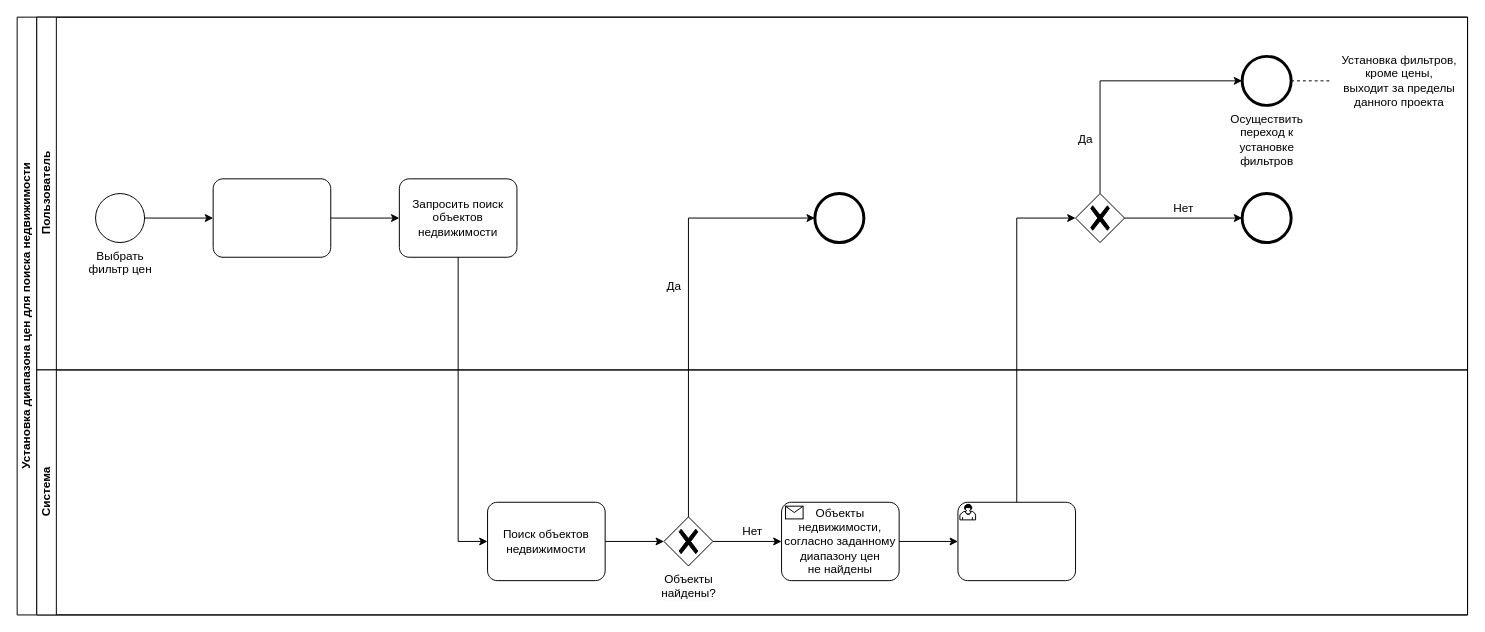
Some shapes in this 1485 by 632 pixel diagram are drawn without their labels. The centre of each missing label's shape, as x and y in pixels:
Актуально изменение установленных фильтров?: point (1100, 218)
Выход из поиска объектов недвижимости: point (1266, 218)
Изменить настройки фильтров: point (1016, 541)
Объекты недвижимости, согласно заданному диапазону цен найдены: point (839, 218)
Установить и сохранить диапазон и категорию ("За все" или "За кв.м") цен: point (271, 217)
